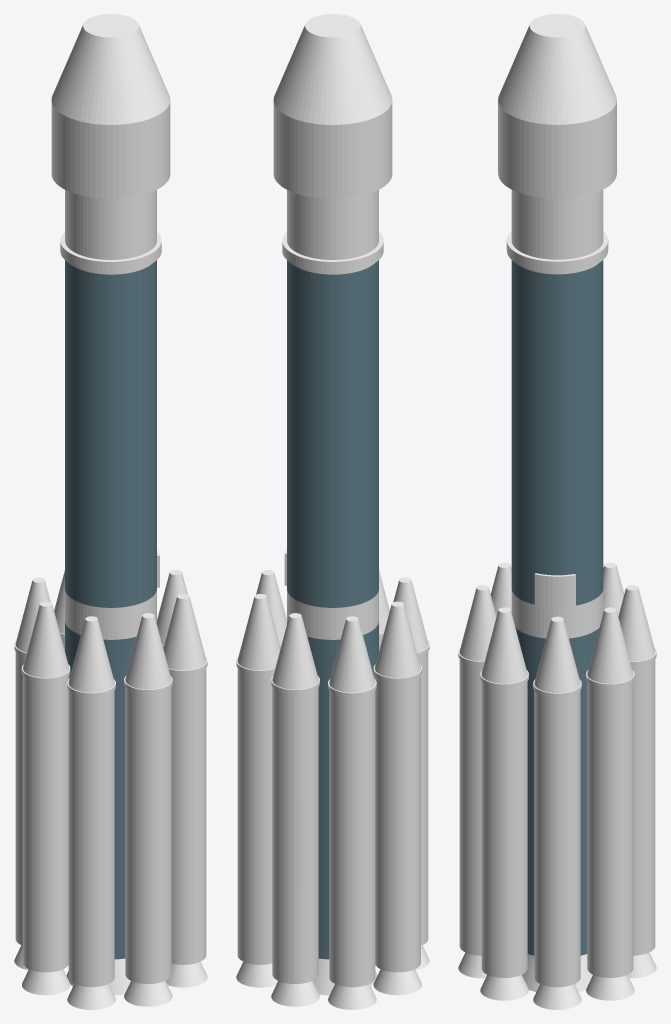
File: rocket.glb
3 renders of one model, left to right at view 1: azimuth 30°, elevation 25°; view 2: azimuth 150°, elevation 25°; view 3: azimuth 270°, elevation 25°, orthographic.
Parts seen in each view (by area): view 1: mainrocket, Cylinder.002, Cylinder.003, Cylinder.004, Cylinder.001, Cylinder.005, Cylinder, Cylinder.006; view 2: mainrocket, Cylinder.006, Cylinder.005, Cylinder.004, Cylinder.007, Cylinder.003, Cylinder, Cylinder.002; view 3: mainrocket, Cylinder.001, Cylinder.007, Cylinder, Cylinder.002, Cylinder.006, Cylinder.003, Cylinder.005.
Part boxes in pixels (bbox=[...]): mainrocket: bbox=[51, 14, 170, 995]; Cylinder.002: bbox=[124, 613, 172, 1006]; Cylinder.003: bbox=[67, 616, 115, 1009]; Cylinder.004: bbox=[21, 601, 70, 995]; Cylinder.001: bbox=[163, 594, 207, 987]; Cylinder.005: bbox=[14, 577, 62, 969]; Cylinder: bbox=[157, 570, 187, 647]; Cylinder.006: bbox=[54, 570, 64, 650]; mainrocket: bbox=[273, 14, 392, 995]; Cylinder.006: bbox=[271, 613, 319, 1006]; Cylinder.005: bbox=[328, 616, 376, 1009]; Cylinder.004: bbox=[373, 601, 422, 995]; Cylinder.007: bbox=[236, 594, 280, 987]; Cylinder.003: bbox=[381, 577, 429, 969]; Cylinder: bbox=[256, 570, 286, 647]; Cylinder.002: bbox=[379, 570, 389, 650]; mainrocket: bbox=[498, 14, 616, 991]; Cylinder.001: bbox=[480, 607, 528, 1000]; Cylinder.007: bbox=[586, 607, 634, 1000]; Cylinder: bbox=[533, 616, 581, 1009]; Cylinder.002: bbox=[458, 585, 496, 978]; Cylinder.006: bbox=[618, 585, 656, 978]; Cylinder.003: bbox=[490, 562, 511, 615]; Cylinder.005: bbox=[603, 562, 624, 615].
Bounding box in the file's own units: 2.47 × 13.05 × 2.47.
